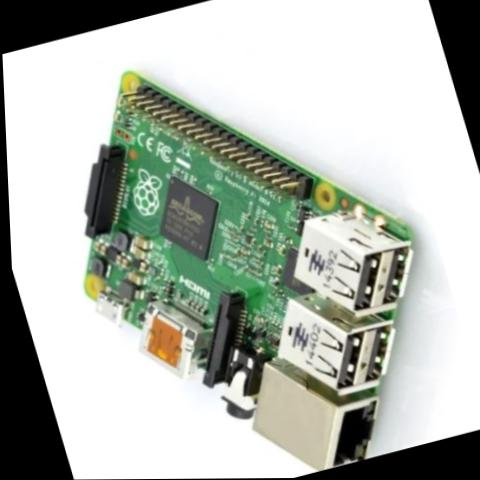Raspberry-Pi-2-Model-B: (17, 0, 480, 480)
